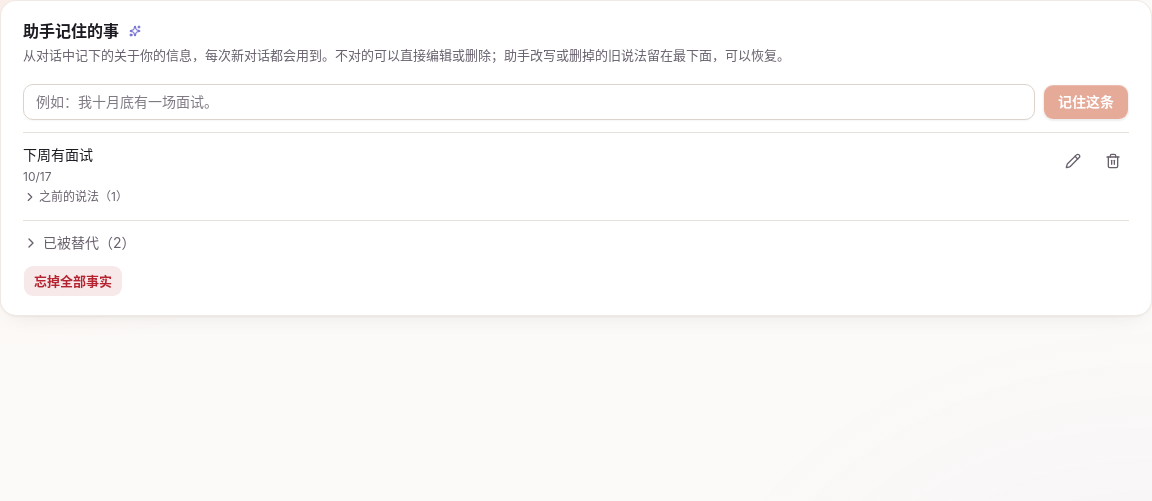
Test: MemoryListSection facts › restores a dropped fact into the list
The image size is (1152, 501).
What coordinates should you click on to do the following:
click the button "已被替代（2）"
I would click on:
 (79, 243)
Its box is 23,233 -> 136,253.
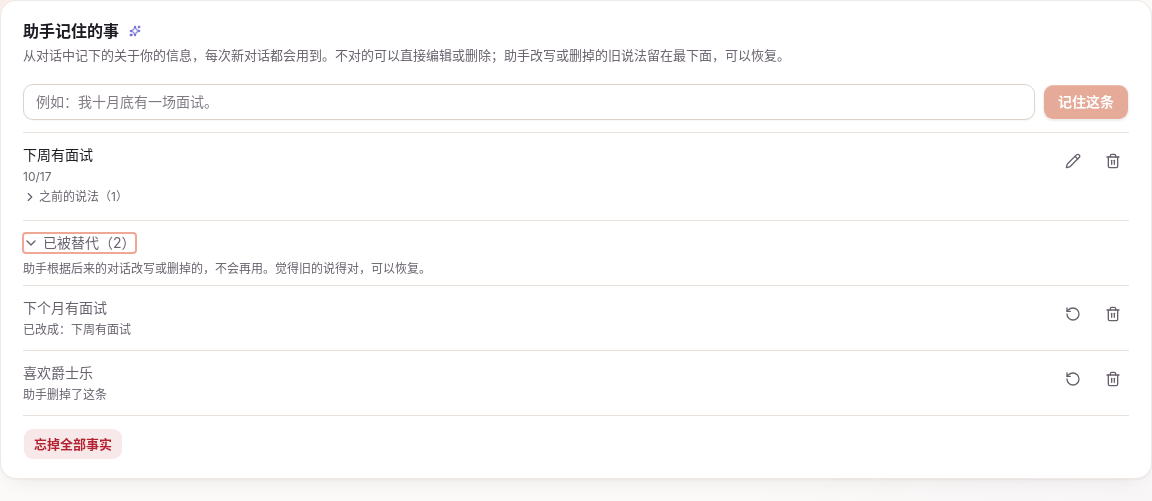
What coordinates should you click on to do the following:
click the button named "恢复" in the row of "喜欢爵士乐"
I would click on:
 (1073, 379)
Its box is 1057,363 -> 1089,395.
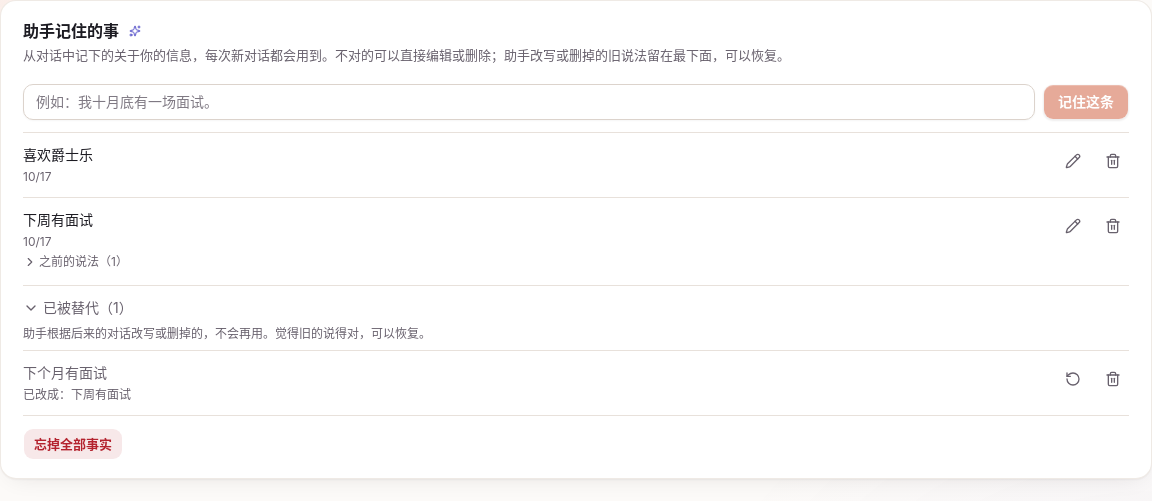
Expected: the button "已被替代（1）" is shown, 23,298 -> 133,318
